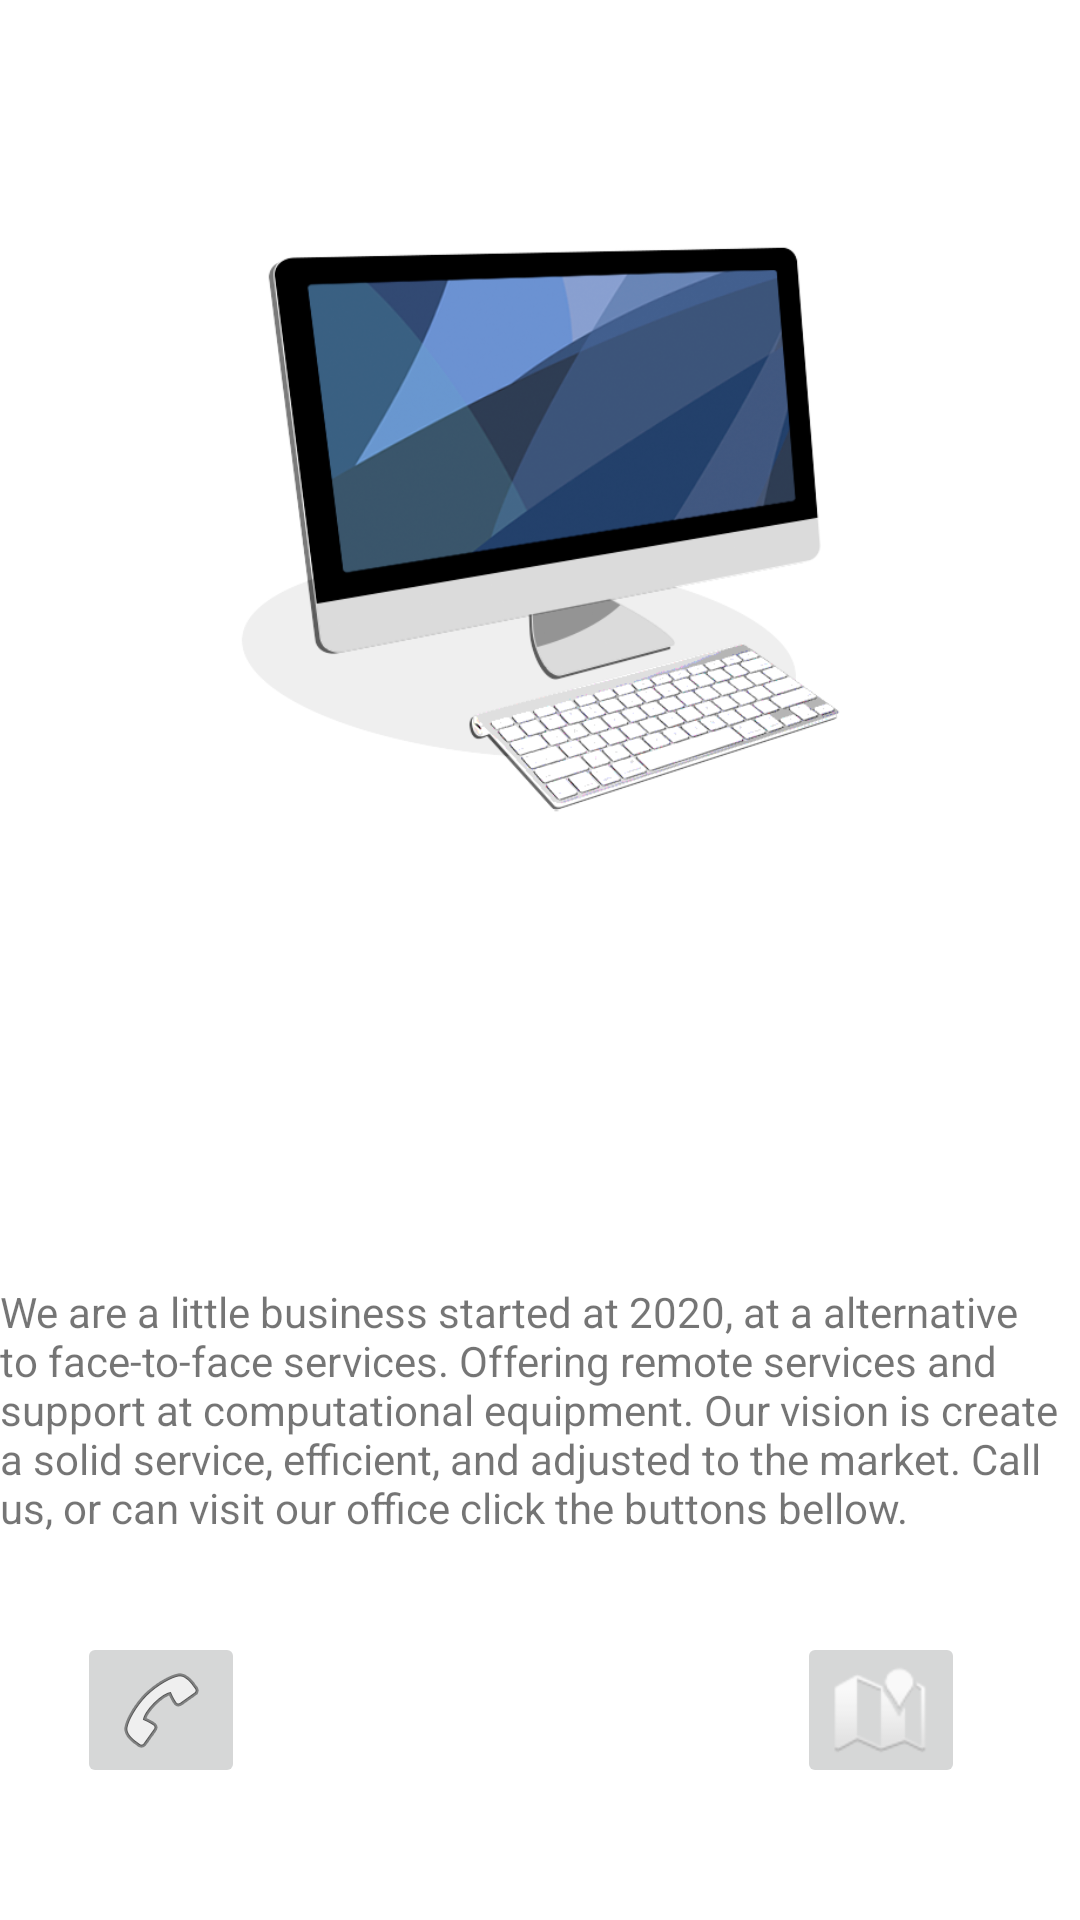

Icon click points for this 1080px x 1920px phone screenshot, format [x,y]:
call: [161,1710]
map: [881,1710]
